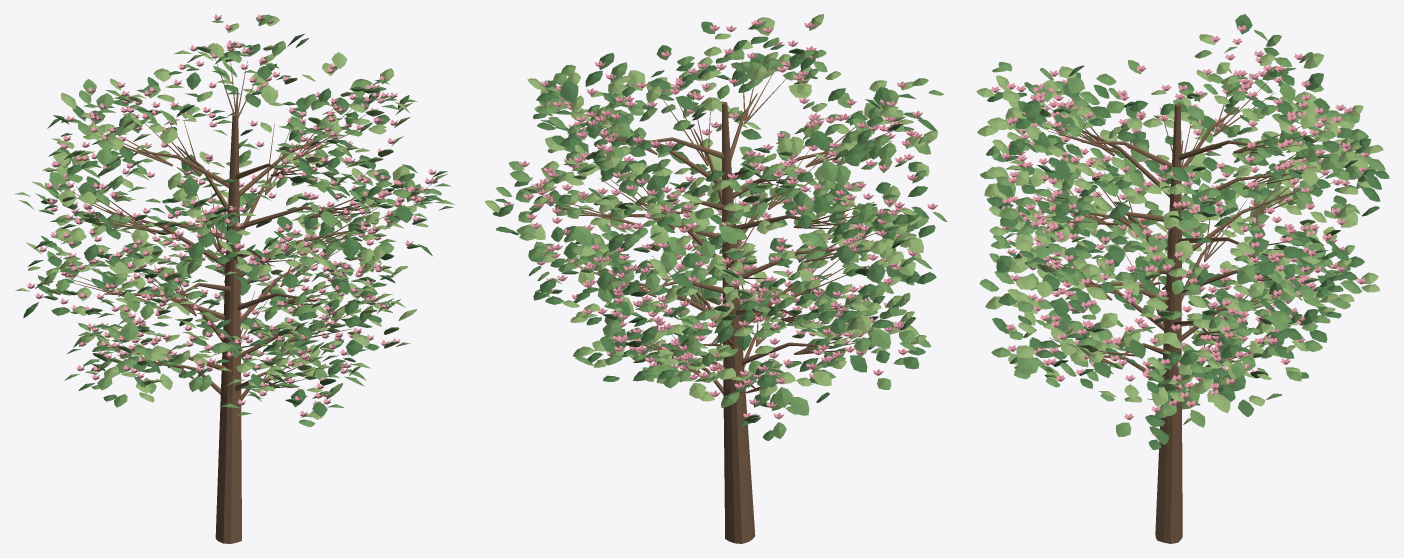
Rendered from sakura-tree.glb.
3 renders of one model, left to right at view 1: azimuth 30°, elevation 25°; view 2: azimuth 150°, elevation 25°; view 3: azimuth 270°, elevation 25°, orthographic. The views are drawn at different scales.
Visible parts, largest first — view 1: sakura-tree; view 2: sakura-tree; view 3: sakura-tree.
Boxes of the visible parts, box(x1,y1,x2,y2) form: sakura-tree: box(15, 14, 454, 543); sakura-tree: box(484, 14, 947, 543); sakura-tree: box(976, 14, 1389, 543).
Size of the model in its own units: 3.4 by 4 by 3.2.
